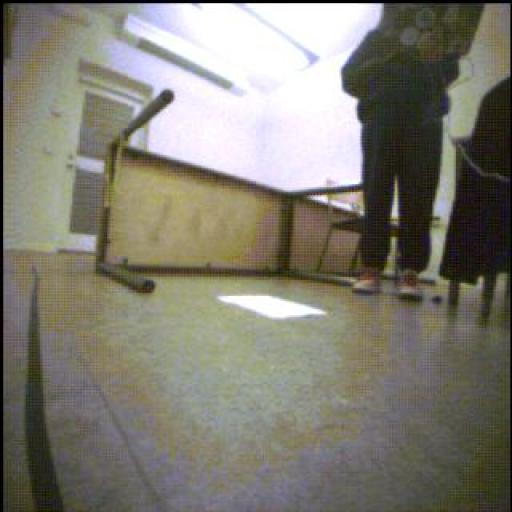Pad: (219, 296, 328, 320)
